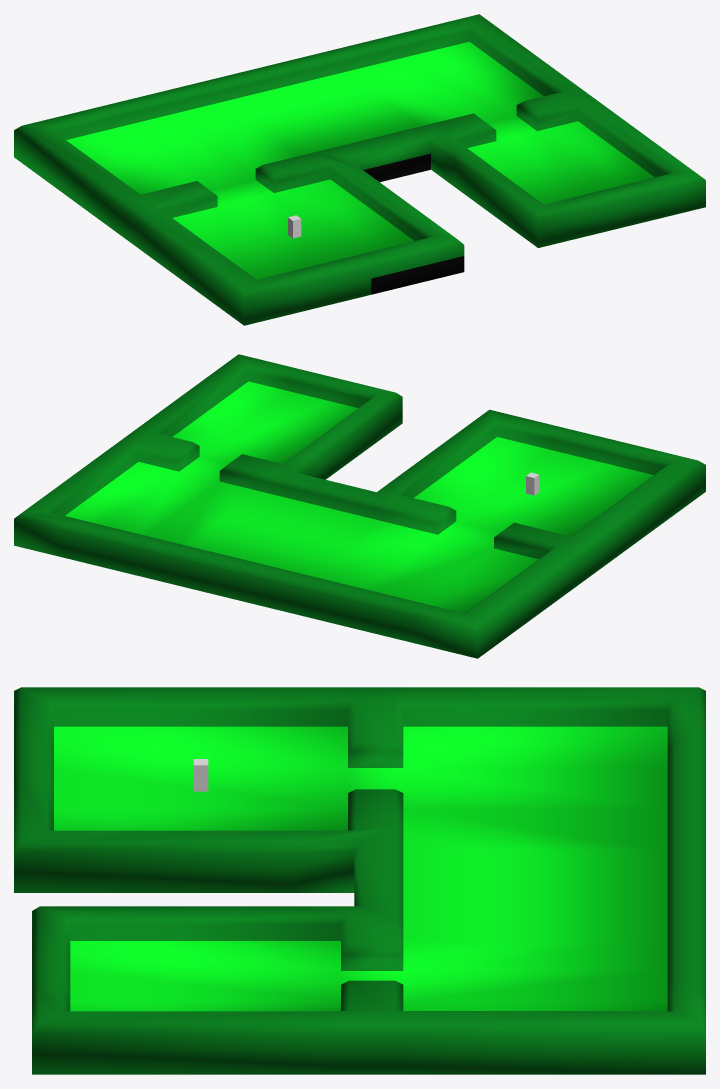
File: LEVEL01_ATTEMPT_D_DontBevelGround_OnlyBevelTop.glb
3 views of the same model, one above another, from view 1: azimuth 30°, elevation 25°; view 2: azimuth 150°, elevation 25°; view 3: azimuth 270°, elevation 25° (orthographic). The views are drawn at different scales.
Visible parts, largest first — view 1: LEVEL_01_ATTEMPT_B_; view 2: LEVEL_01_ATTEMPT_B_; view 3: LEVEL_01_ATTEMPT_B_.
Boxes of the visible parts, x1=… form: LEVEL_01_ATTEMPT_B_: x1=14, y1=14, x2=705, y2=325; LEVEL_01_ATTEMPT_B_: x1=14, y1=354, x2=705, y2=658; LEVEL_01_ATTEMPT_B_: x1=14, y1=687, x2=705, y2=1074.
Size of the model in its own units: 55.27 by 4 by 47.1.
